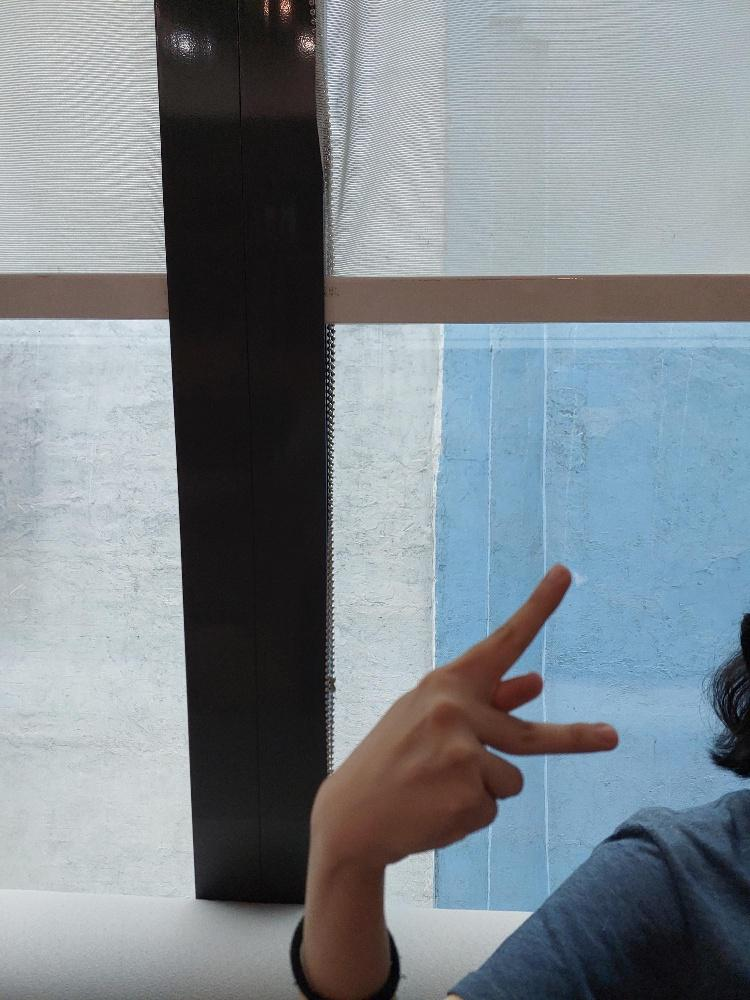k: (333, 561, 619, 864)
